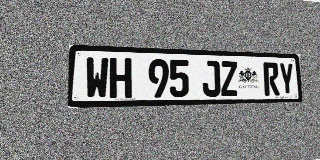5: (169, 59, 189, 97)
9: (149, 59, 169, 98)
H: (109, 58, 132, 98)
J: (202, 60, 221, 97)
R: (263, 62, 280, 96)
W: (85, 57, 109, 99)
Y: (279, 63, 295, 95)
Z: (220, 61, 238, 96)
